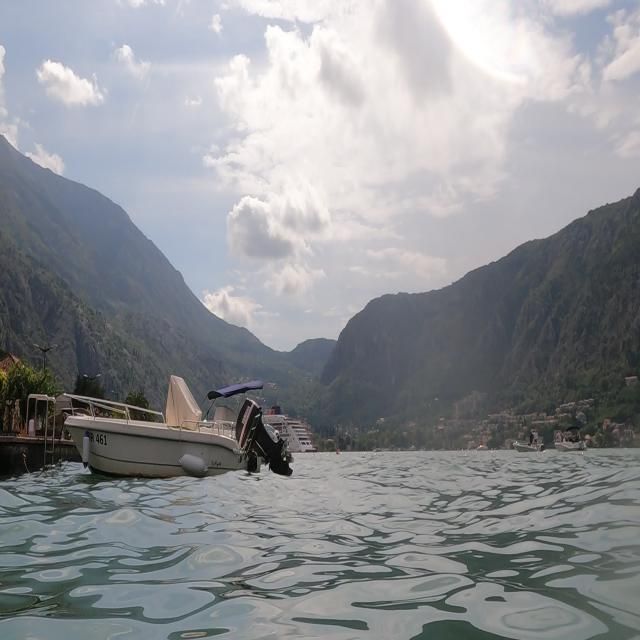boat: (62, 371, 294, 483)
